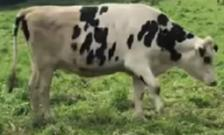cow: (7, 4, 219, 119)
